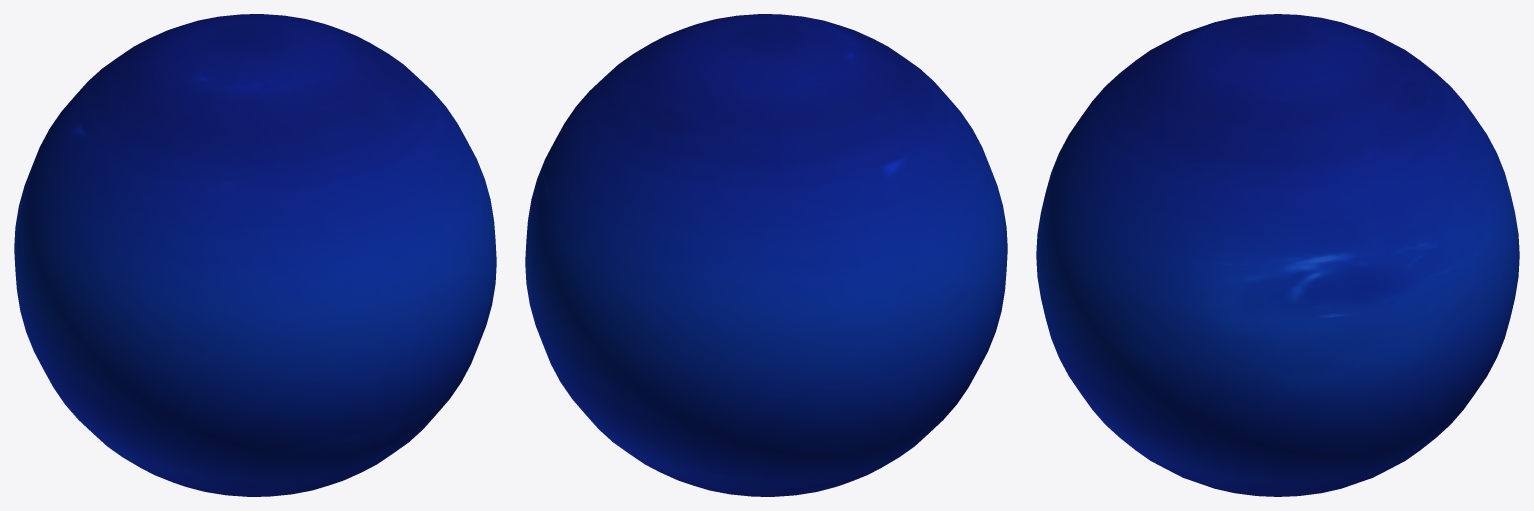
Rendered from neptune.gltf.
3 views of the same model, side by side, from view 1: azimuth 30°, elevation 25°; view 2: azimuth 150°, elevation 25°; view 3: azimuth 270°, elevation 25° (orthographic).
Visible parts, largest first — view 1: Neptune; view 2: Neptune; view 3: Neptune.
Boxes of the visible parts, x1,y1,x2,y2 form: Neptune: [14, 14, 496, 496]; Neptune: [525, 14, 1007, 496]; Neptune: [1036, 14, 1519, 496].
Bounding box in the file's own units: 2 × 2 × 2.
Materials: 1 (1 with a texture image).
